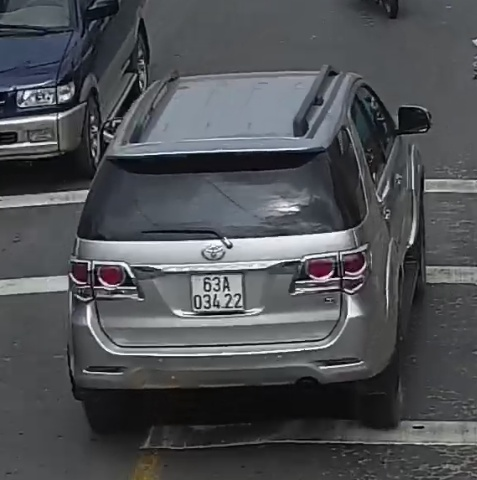vehicle plate: (186, 270, 248, 315)
